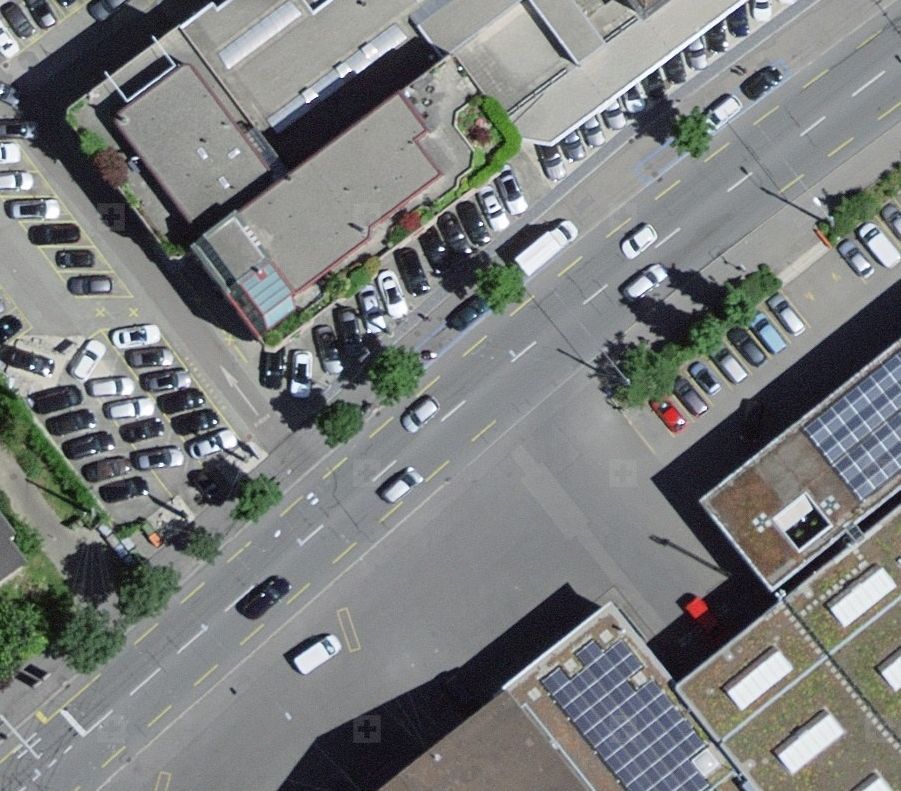solar: (539, 640, 713, 791), (804, 347, 901, 506)
